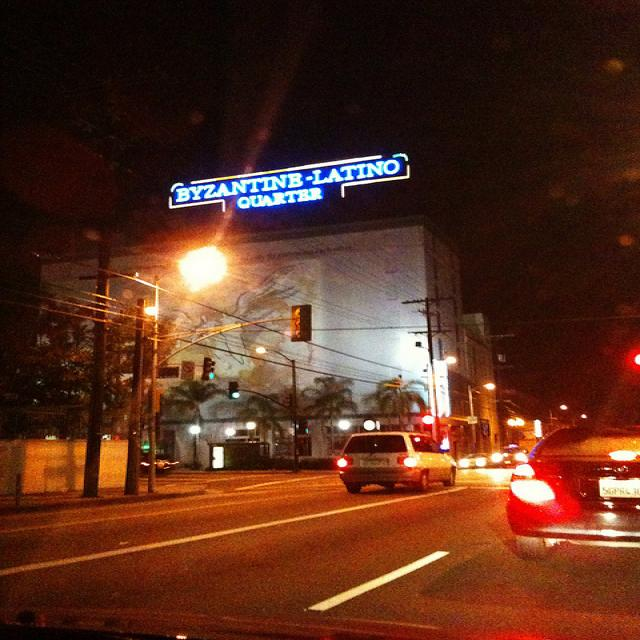Car: (299, 365, 457, 519), (502, 409, 640, 569)
